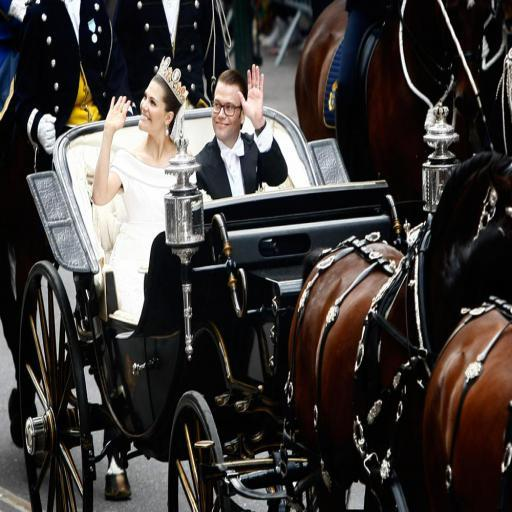Horse: (287, 242, 512, 512)
